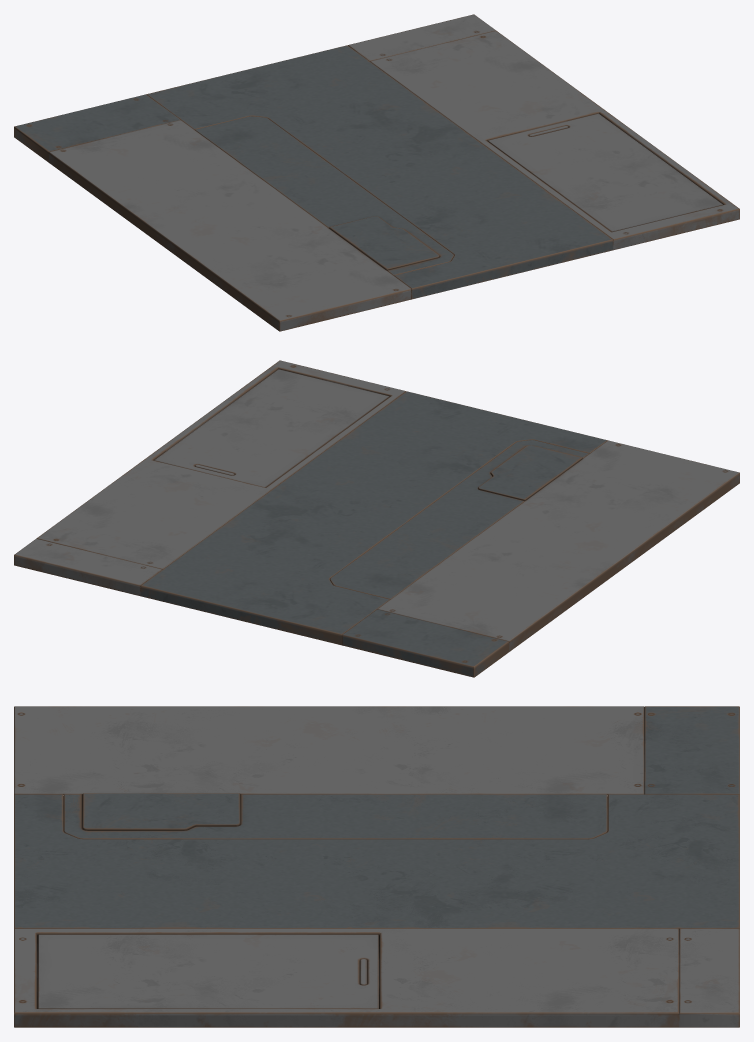
The model's file is SM_RoomStyle_Floor03.fbx.
3 renders of one model, top to bottom at view 1: azimuth 30°, elevation 25°; view 2: azimuth 150°, elevation 25°; view 3: azimuth 270°, elevation 25°, orthographic. The views are drawn at different scales.
Visible parts, largest first — view 1: SM_RoomStyle_Floor03_LOD0; view 2: SM_RoomStyle_Floor03_LOD0; view 3: SM_RoomStyle_Floor03_LOD0.
Part boxes in pixels (<box>): SM_RoomStyle_Floor03_LOD0: <box>14,14,739,331</box>; SM_RoomStyle_Floor03_LOD0: <box>14,360,739,677</box>; SM_RoomStyle_Floor03_LOD0: <box>14,706,739,1027</box>.
Bounding box in the file's own units: 260 × 260 × 6.33.
Materials: 2 (1 with a texture image).
